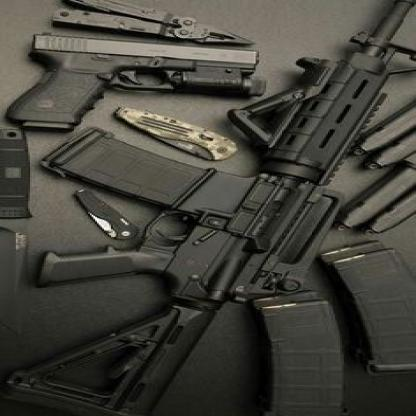Gun: (2, 0, 416, 416)
Knife: (110, 104, 241, 164), (69, 186, 141, 244)
Pistol: (5, 30, 268, 133)
